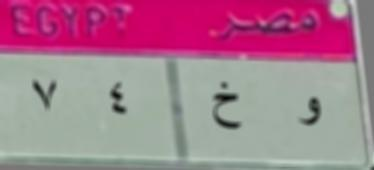4: (107, 77, 132, 122)
7: (27, 72, 62, 120)
khaa: (206, 78, 245, 136)
waw: (289, 84, 324, 135)
